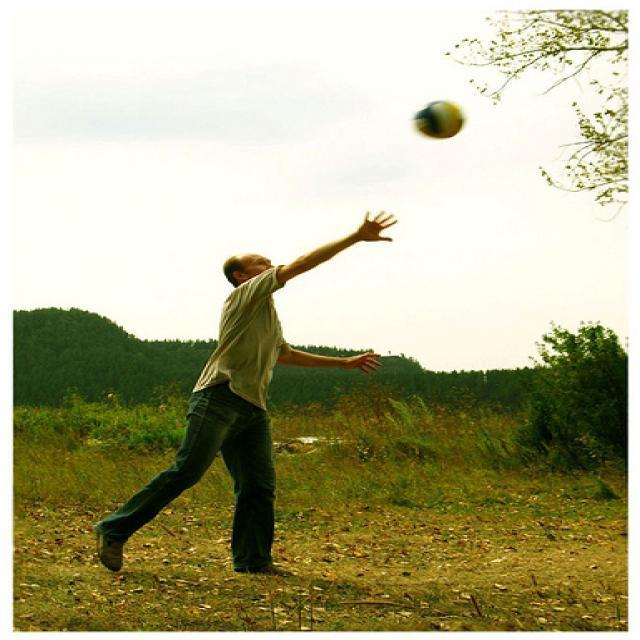volleyball: (414, 99, 464, 141)
